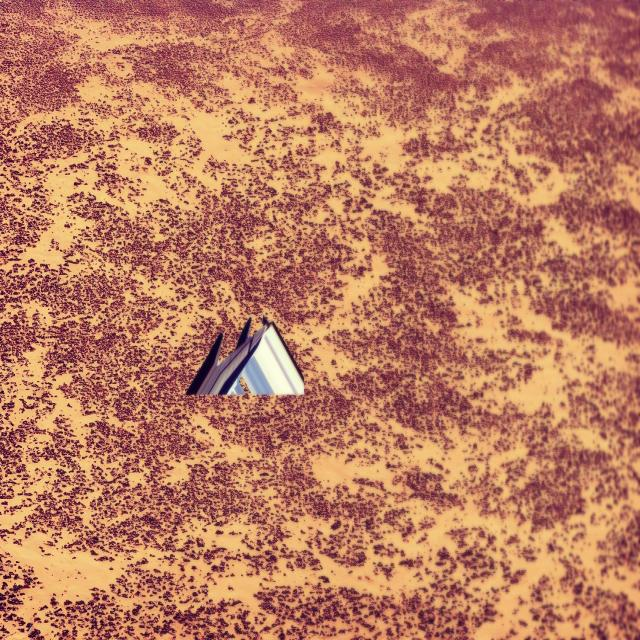airplane: (185, 314, 304, 398)
